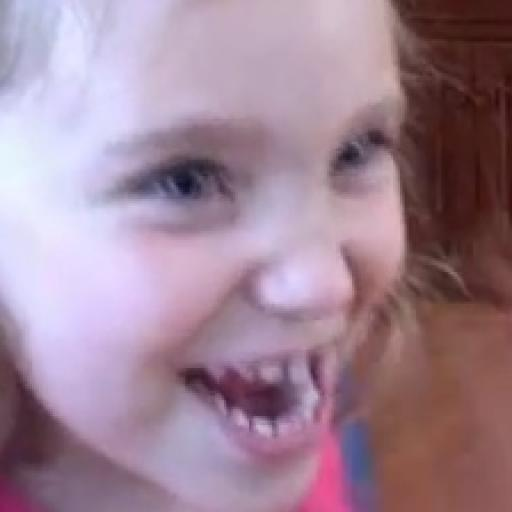Autism: (7, 10, 454, 502)
